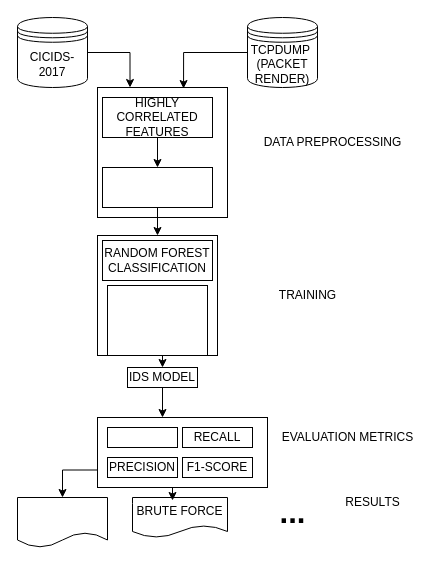
Image size: 445x565. Some labels were removed from this diagram. Here are the shapes that lost their labels. From the top down, the centre of each, then its label:
At pixel 157 187: "SELECTED FEATURES".
At pixel 157 320: "SIMPLE IMPUTER STANDARD SCALER".
At pixel 142 437: "ACCURACY".
At pixel 62 522: "DENAIL OF SERVICE".
